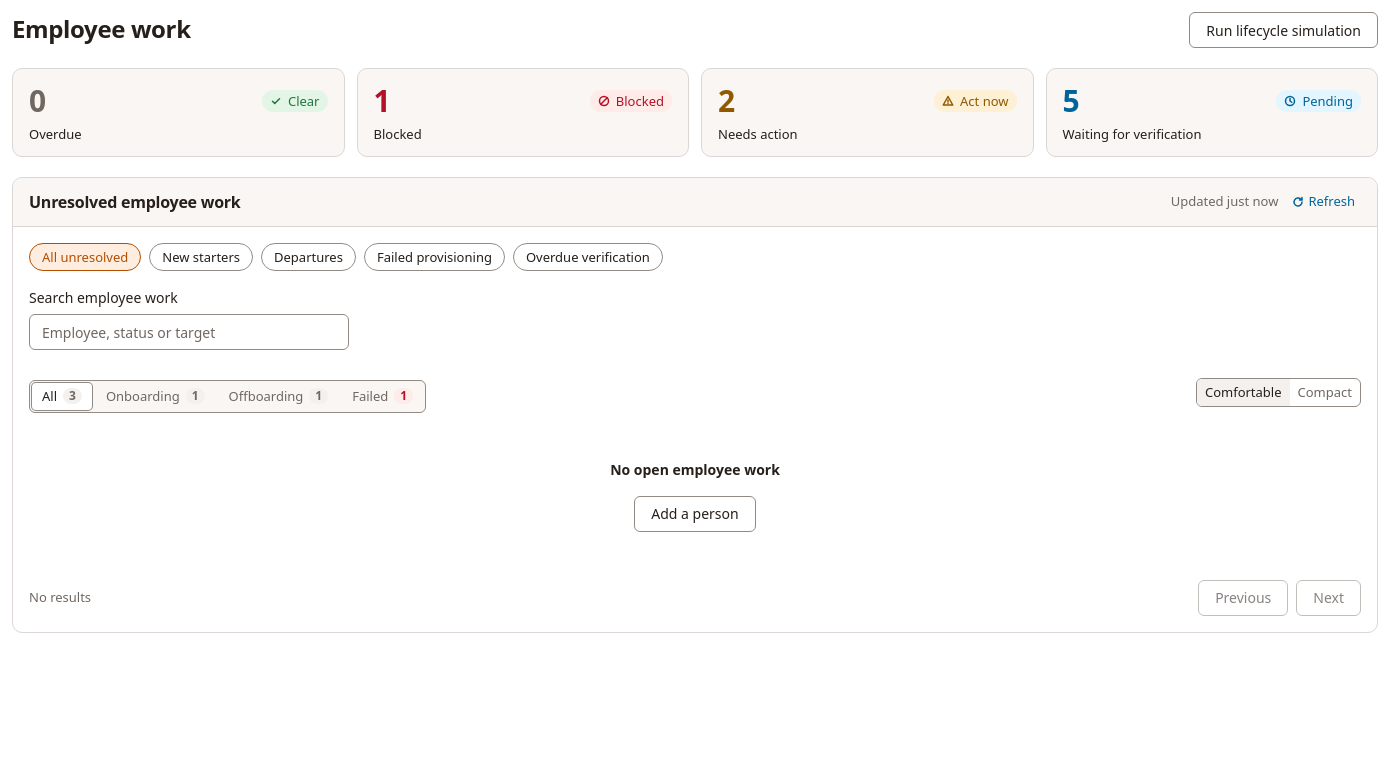
Test: EmployeeWorkPage › shows each lane with its count and links a lane to its filtered list
Expected: the text "5" is shown, [1062,81,1079,121]
Click the link "1 Blocked Blocked". click: {"x": 631, "y": 101}
box: [356,68,689,156]
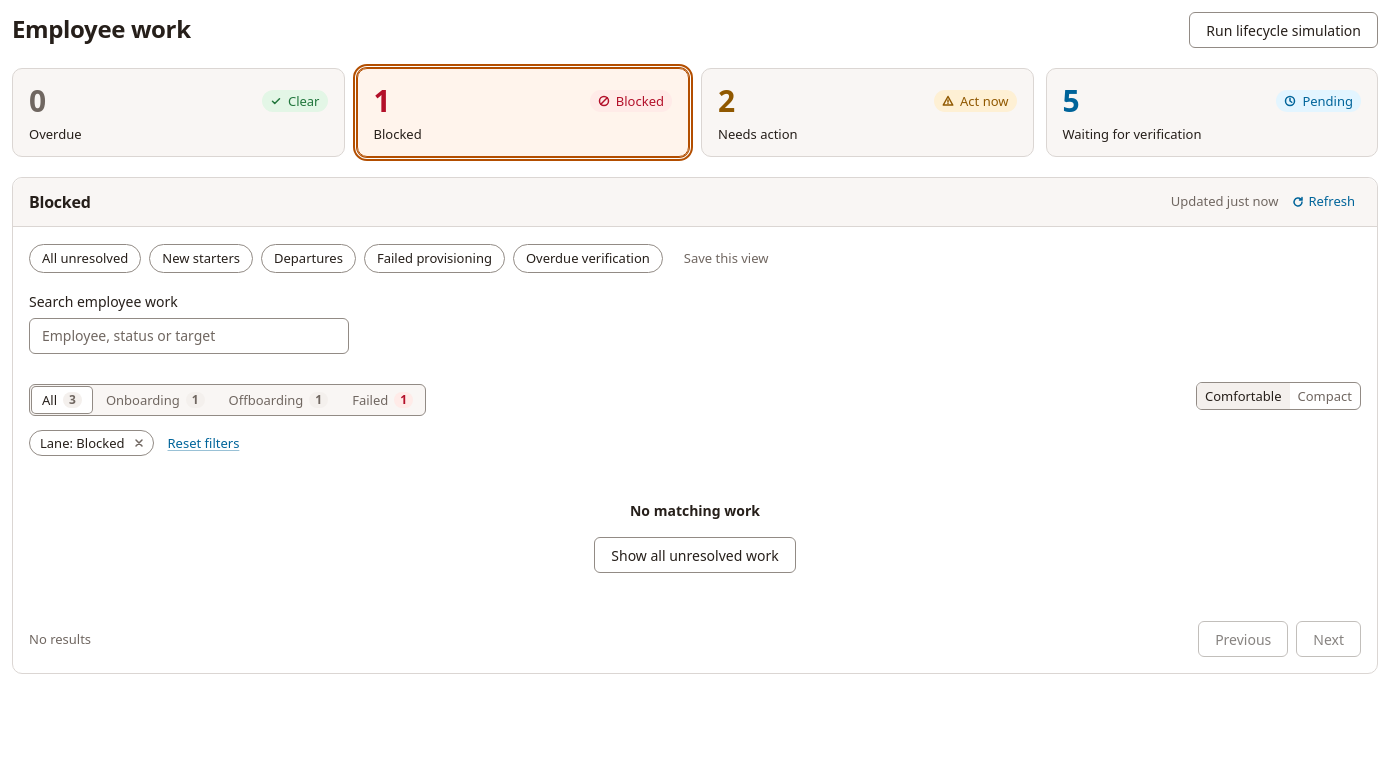
Now the text "No matching work" is shown, box [630,501,760,520]
